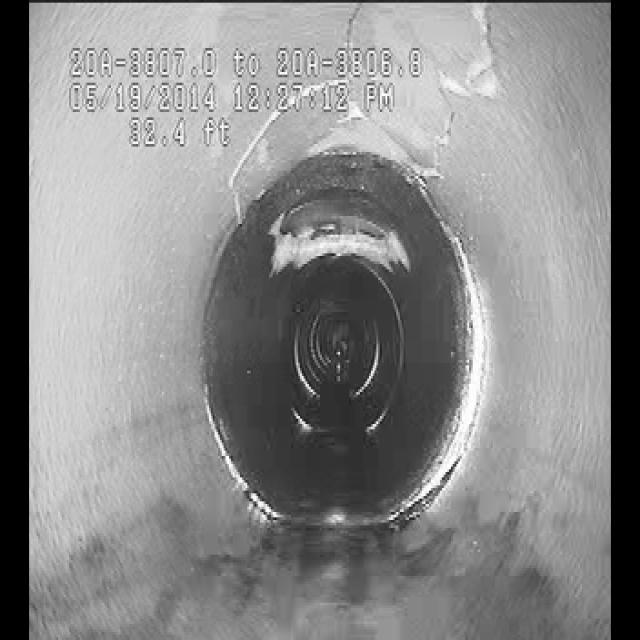Fracture: (423, 9, 510, 162)
